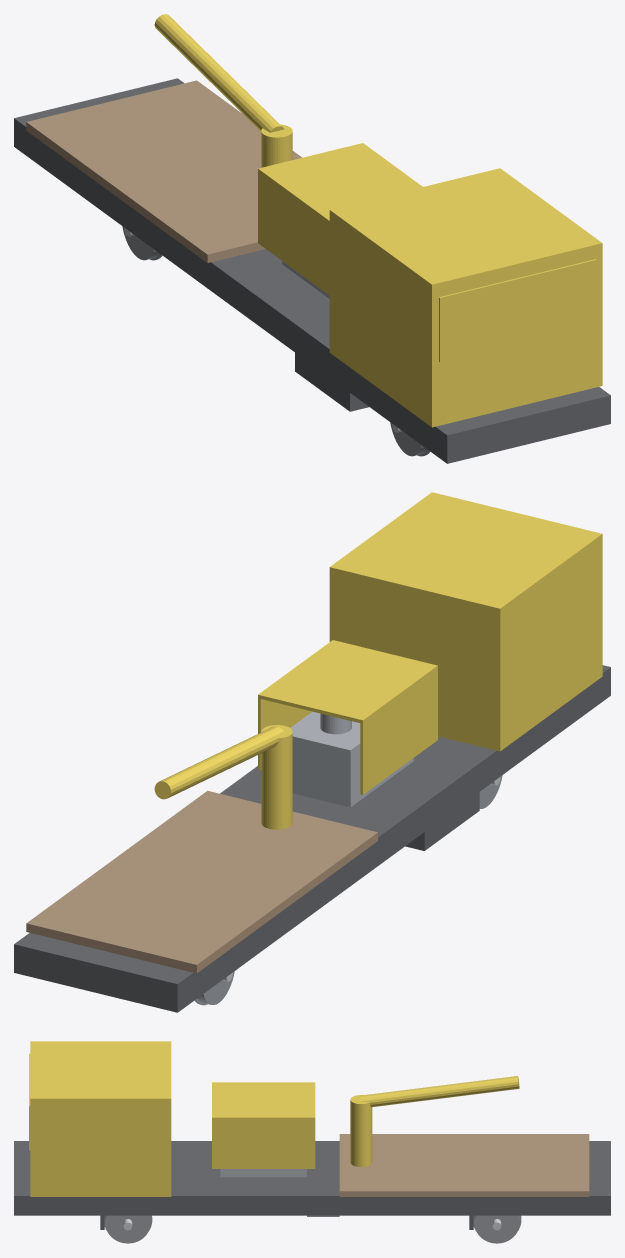
Rendered from modele.glb.
3 views of the same model, one above another, from view 1: azimuth 30°, elevation 25°; view 2: azimuth 150°, elevation 25°; view 3: azimuth 270°, elevation 25° (orthographic). The views are drawn at different scales.
Parts seen in each view (by area): view 1: cabine, plateforme, chassis_draisine, toit_capot, capot_gauche, grue_chargement, reservoir; view 2: cabine, plateforme, chassis_draisine, toit_capot, moteur_diesel, capot_gauche, grue_chargement, reservoir, capot_droit; view 3: cabine, chassis_draisine, plateforme, capot_droit, toit_capot, grue_chargement, roues_draisine_2, roues_draisine_1, moteur_diesel.
Boxes of the visible parts, x1,y1,x2,y2 form: cabine: [329, 168, 602, 427]; plateforme: [26, 80, 301, 262]; chassis_draisine: [14, 78, 610, 463]; toit_capot: [258, 143, 422, 223]; capot_gauche: [258, 172, 329, 295]; grue_chargement: [154, 14, 292, 167]; reservoir: [295, 353, 368, 411]; cabine: [329, 492, 602, 751]; plateforme: [26, 790, 377, 973]; chassis_draisine: [14, 665, 610, 1012]; toit_capot: [258, 640, 437, 723]; moteur_diesel: [290, 711, 413, 807]; capot_gauche: [360, 669, 437, 794]; grue_chargement: [154, 725, 292, 829]; reservoir: [405, 792, 479, 850]; capot_droit: [258, 698, 311, 769]; cabine: [29, 1041, 171, 1196]; chassis_draisine: [14, 1141, 610, 1215]; plateforme: [339, 1134, 589, 1196]; capot_droit: [212, 1119, 315, 1168]; toit_capot: [212, 1082, 315, 1119]; grue_chargement: [350, 1076, 519, 1166]; roues_draisine_2: [473, 1215, 521, 1243]; roues_draisine_1: [104, 1215, 152, 1243]; moteur_diesel: [220, 1169, 306, 1177].
Size of the model in its own units: 2.5 by 3.28 by 11.
